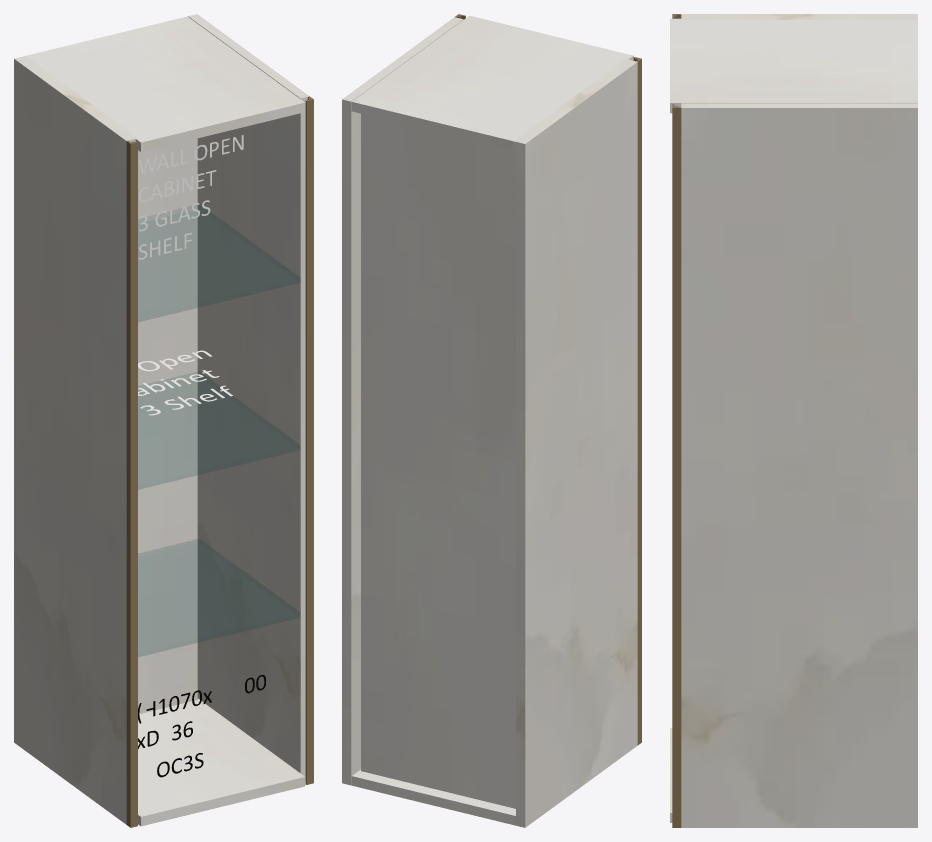
The picture shows the model from 3 angles, left to right: view 1: azimuth 30°, elevation 25°; view 2: azimuth 150°, elevation 25°; view 3: azimuth 270°, elevation 25°; orthographic projection. The views are drawn at different scales.
Size of what is drawn, in the model's own units: 0.3 by 1.07 by 0.334.
6 materials, 1 textured.
